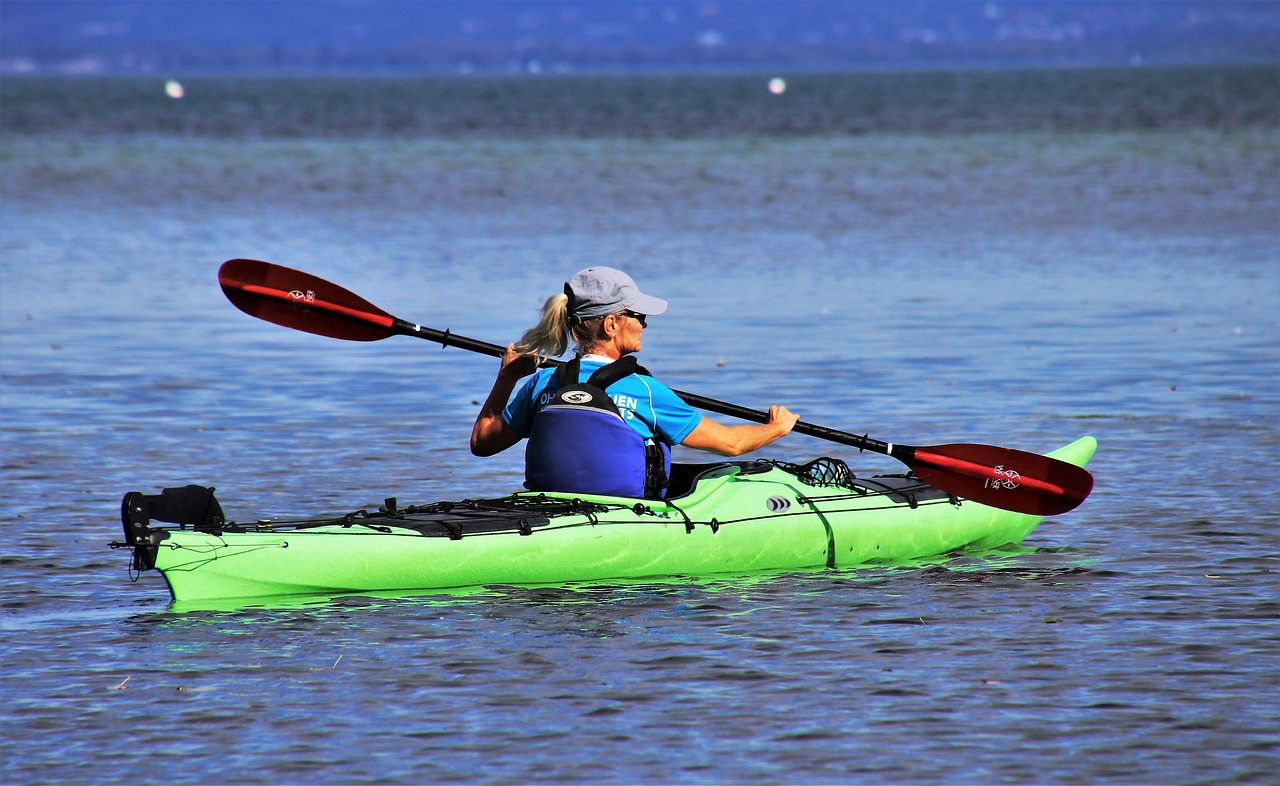kayak: (118, 432, 1104, 618)
